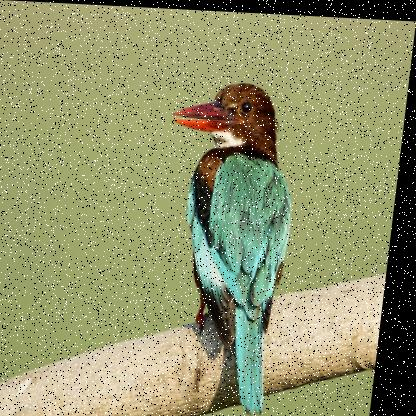Burung: (148, 76, 309, 411)
